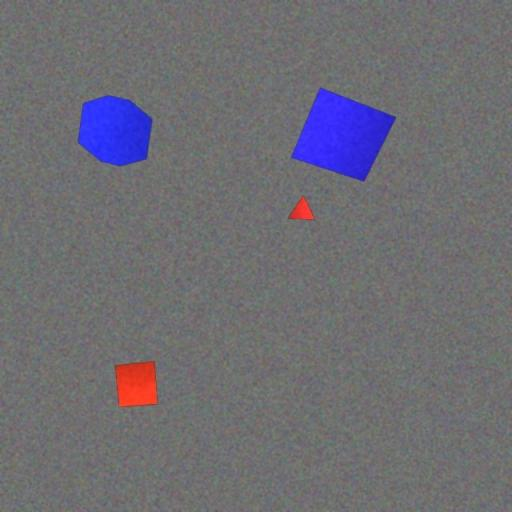BLUE_SQUARE: (290, 88, 397, 182)
RED_SQUARE: (114, 360, 158, 408)
